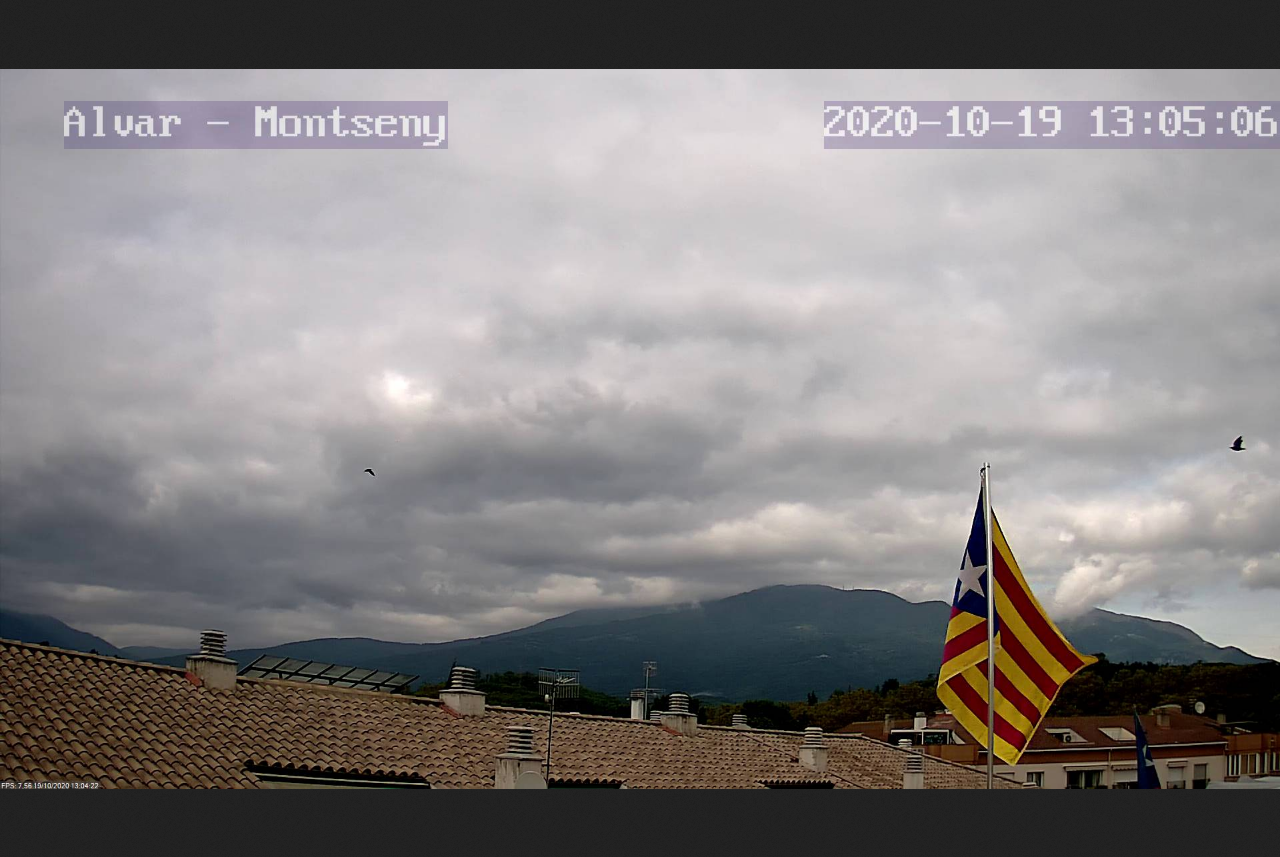no: (930, 441, 1102, 776)
